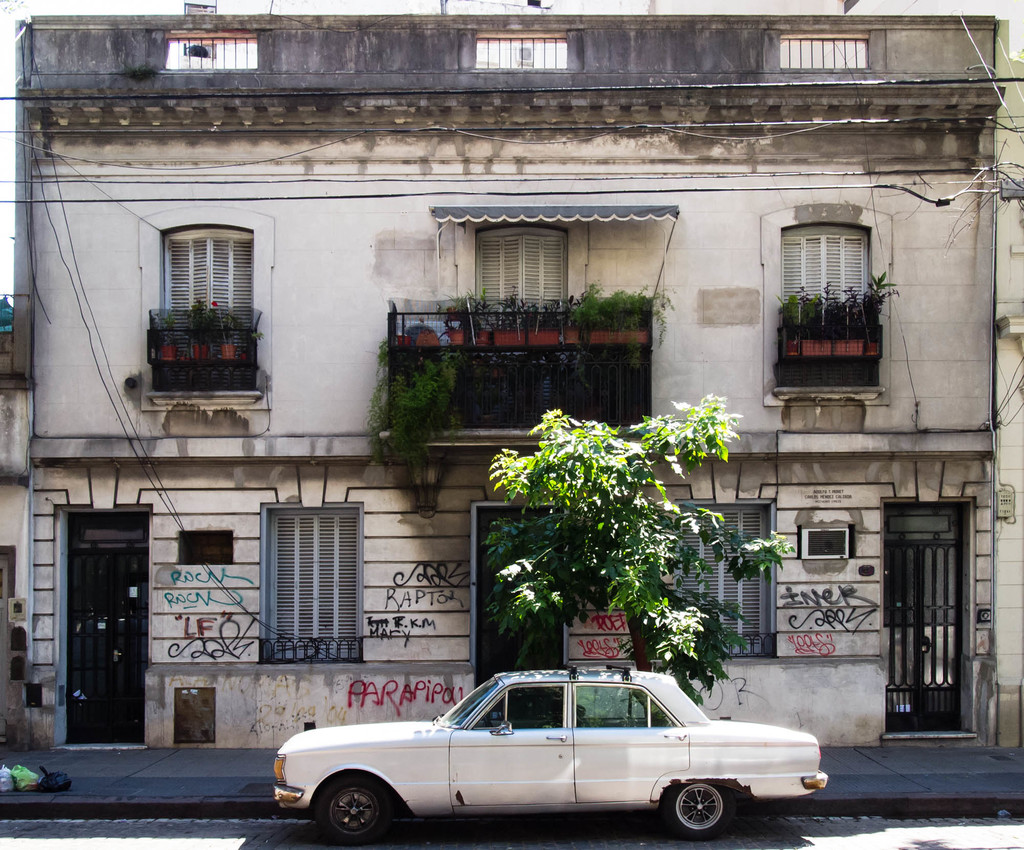Car: (270, 672, 831, 833)
